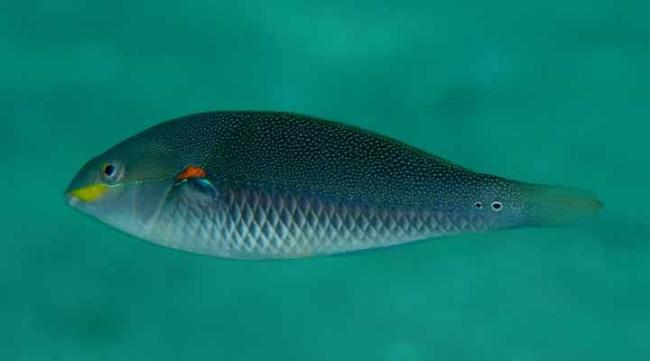fish: (63, 109, 606, 262)
